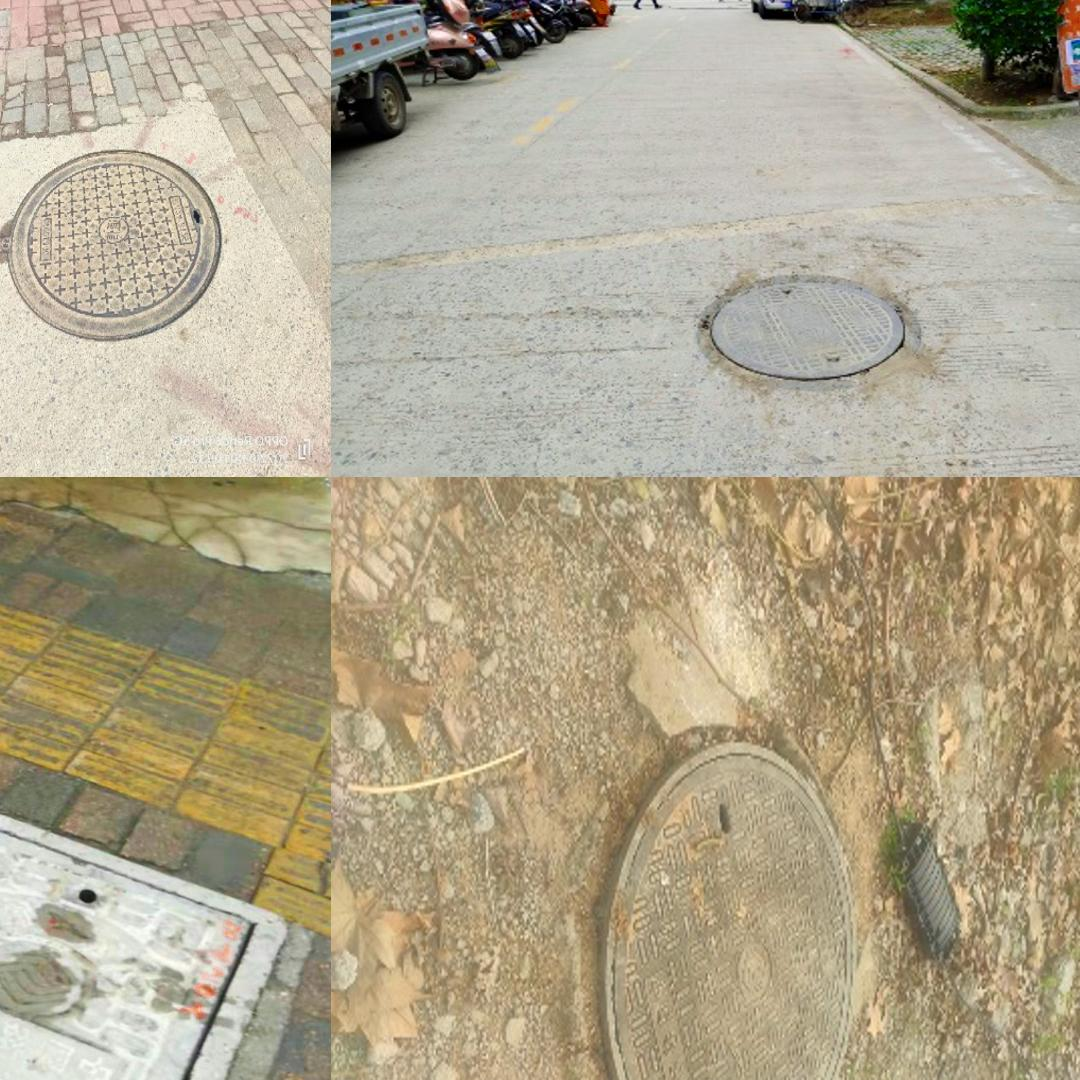good: (0, 709, 287, 1080), (598, 739, 856, 1080), (6, 144, 216, 344), (697, 274, 919, 388)
